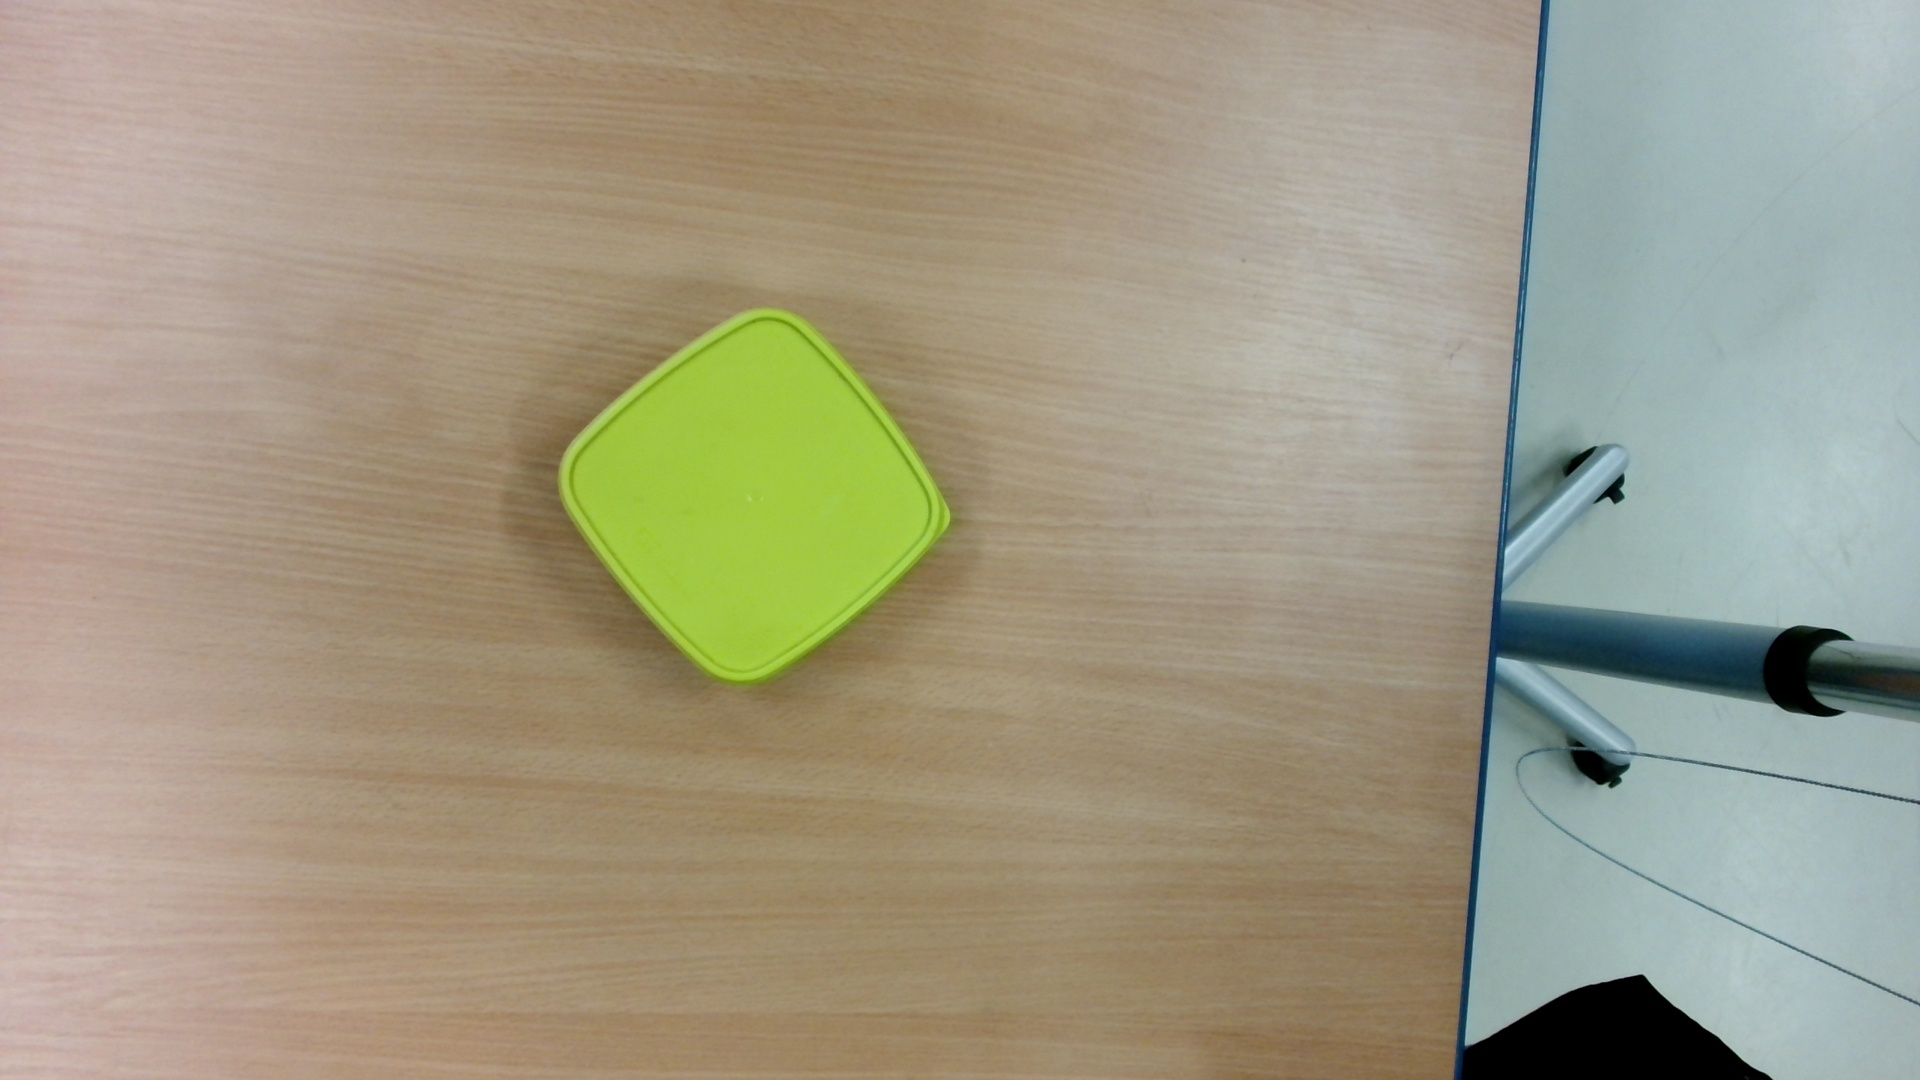Box: (549, 297, 965, 699)
